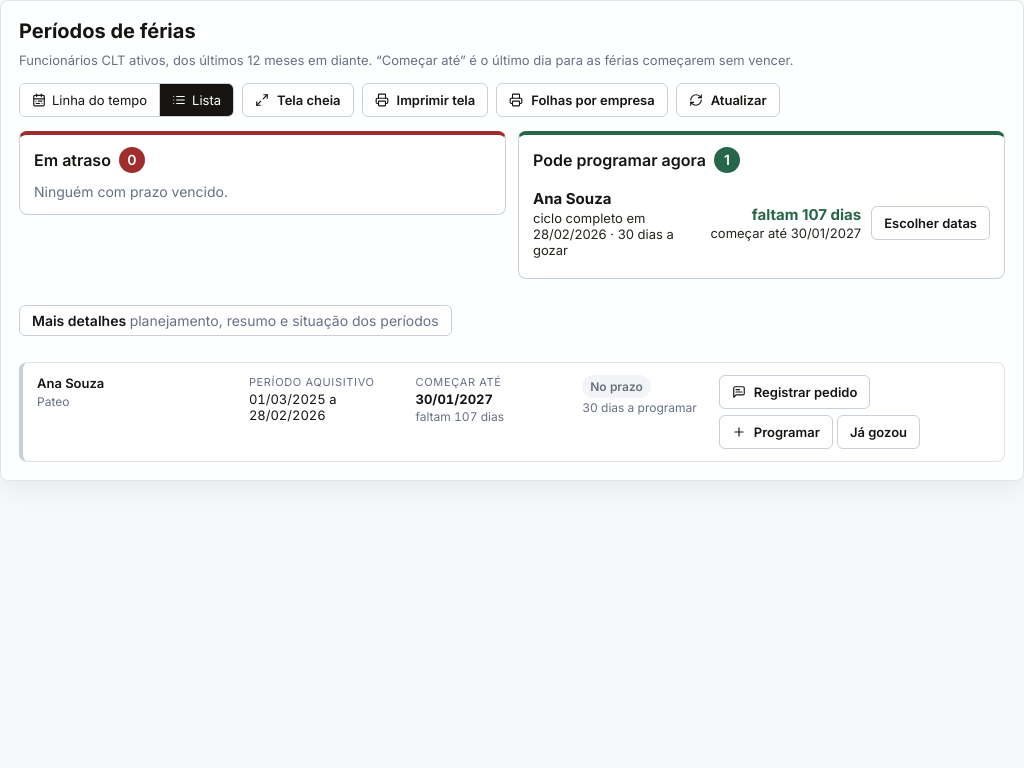
Test: Ferias › mostra o erro do servidor dentro do formulário
Click the button with aria-label "Programar férias de Ana Souza".
click(776, 432)  # box [719,414,833,448]
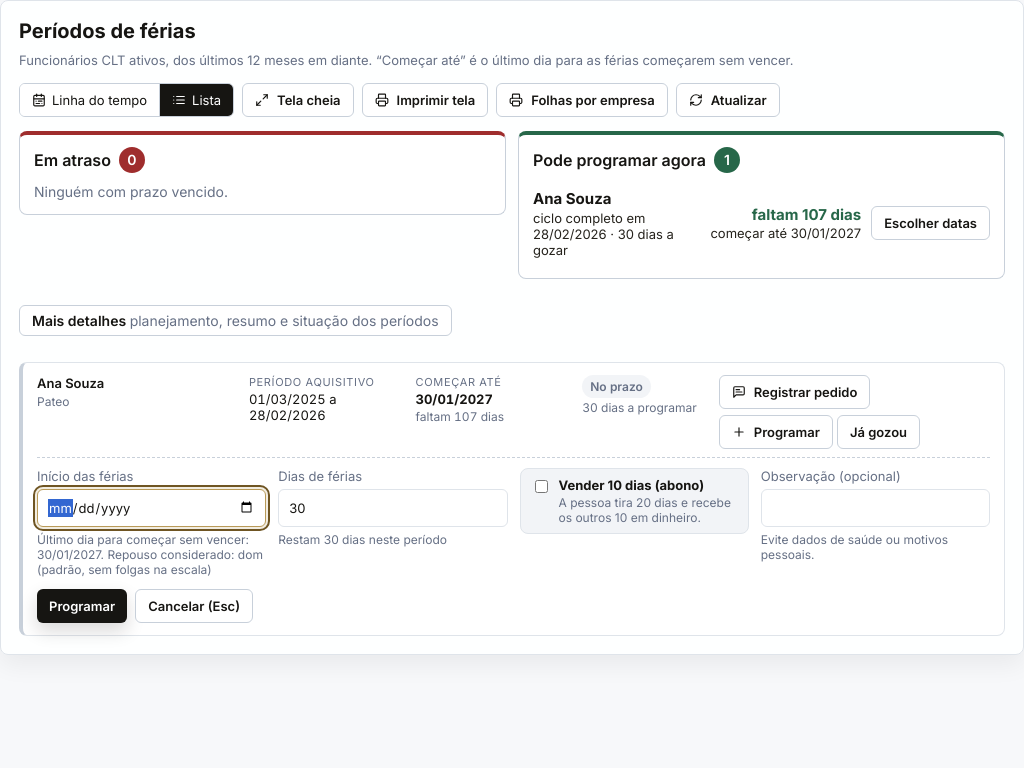
Type "2026-12-01" into the date field labelled "Início das férias".
click(152, 508); type("2026-12-01")  # box [37,488,266,526]
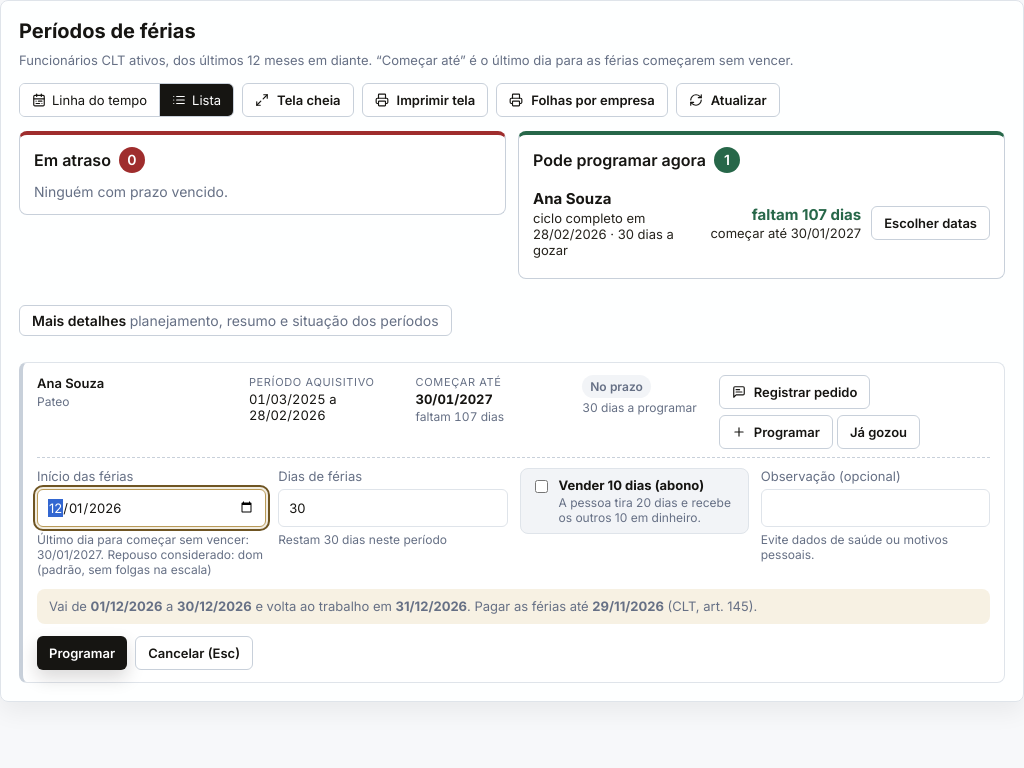
Click the button "Programar" below "Vai de".
click(82, 653)  # box [37,636,127,670]
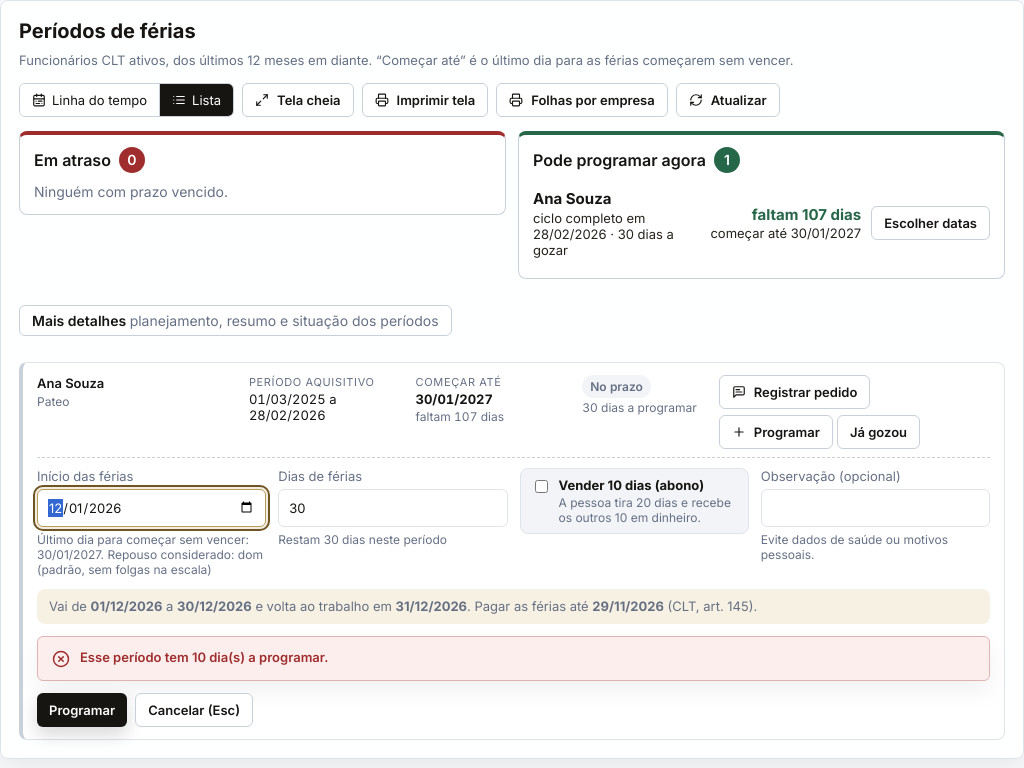
Expected: the text "Esse período tem 10 dia(s) a programar." is shown, [80,649,328,666]
